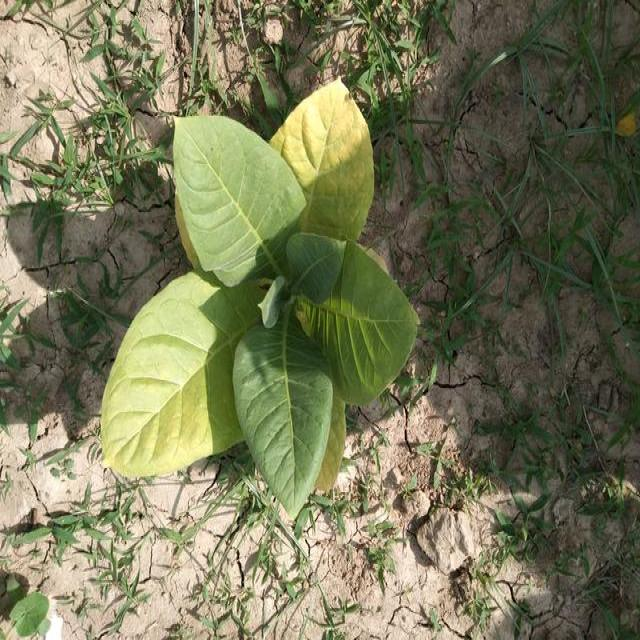crop: (108, 62, 428, 513)
